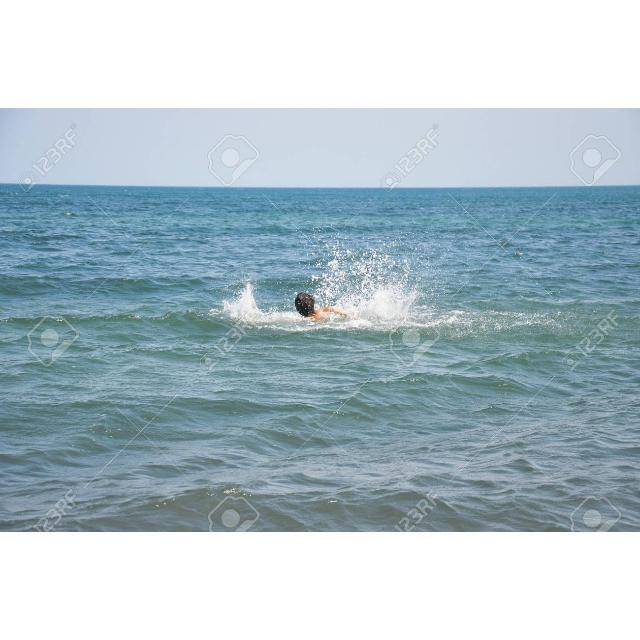human: (291, 287, 347, 322)
